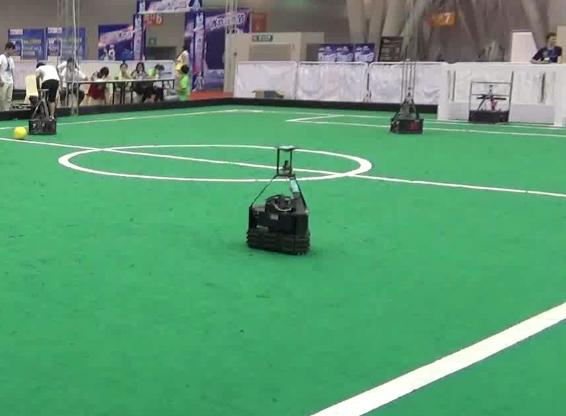robot: (245, 140, 314, 257), (387, 81, 426, 137), (25, 85, 61, 135)
